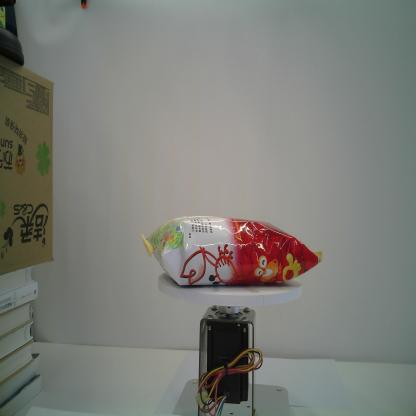Puffed Food: (138, 215, 324, 290)
